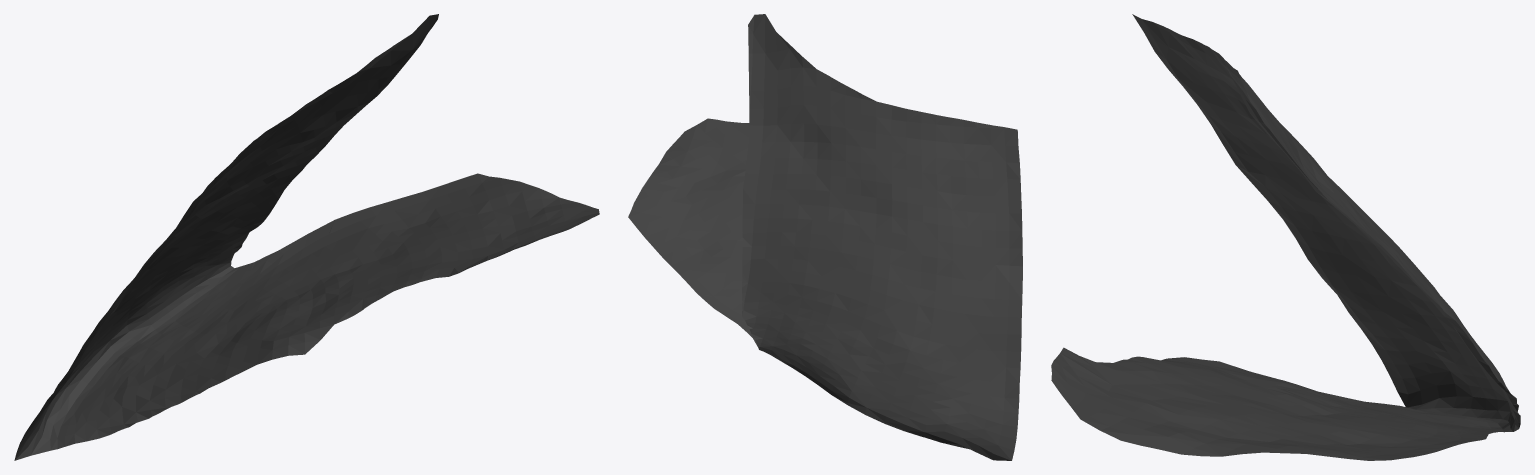
File: eq_dist_limb_Coffin_Bone.glb
3 renders of one model, left to right at view 1: azimuth 30°, elevation 25°; view 2: azimuth 150°, elevation 25°; view 3: azimuth 270°, elevation 25°, orthographic. The views are drawn at different scales.
Visible parts, largest first — view 1: eq_dist_limb_Coffin_Bone; view 2: eq_dist_limb_Coffin_Bone; view 3: eq_dist_limb_Coffin_Bone.
Part boxes in pixels (x1,y1,x2,y2): eq_dist_limb_Coffin_Bone: (14, 14, 599, 460); eq_dist_limb_Coffin_Bone: (628, 14, 1022, 460); eq_dist_limb_Coffin_Bone: (1051, 14, 1520, 460).
Size of the model in its own units: 0.00775 by 0.00613 by 0.00451.
1 material, 1 textured.
